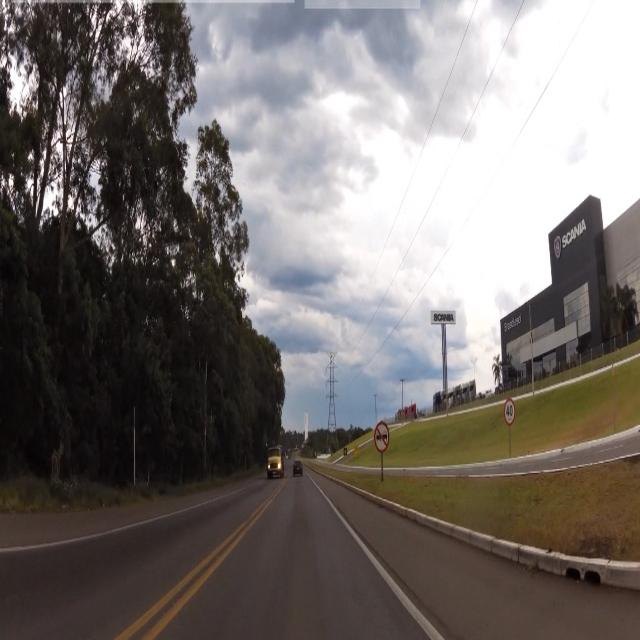R-19: (504, 398, 516, 424)
R-7: (375, 421, 391, 453)
